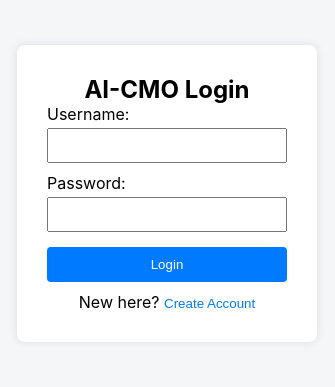
App Component › should display error message on login failure
In the field with test id "username-input": (167, 145) [47, 128, 287, 162], type "testuser"
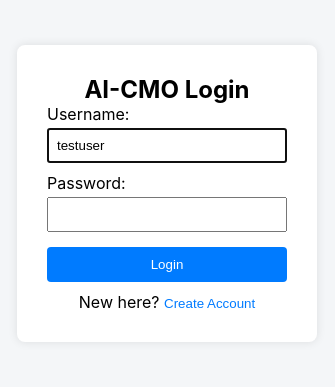
In the password field with test id "password-input": (167, 214) [47, 196, 287, 232], type "wrongpassword"
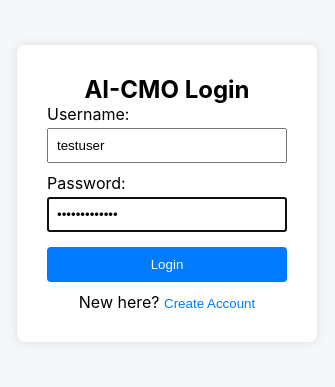
Click the button with test id "submit-button": (167, 264) [47, 246, 287, 282]
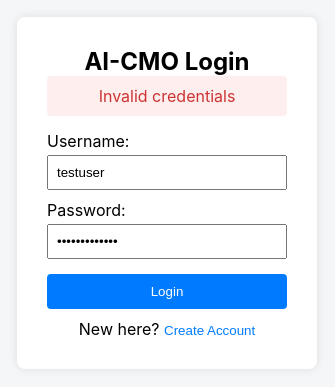
expect the text "Invalid credentials" is shown: met, box [47, 76, 287, 116]
